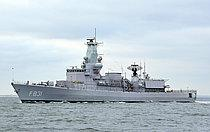MIL_Ship: (10, 36, 198, 103)
